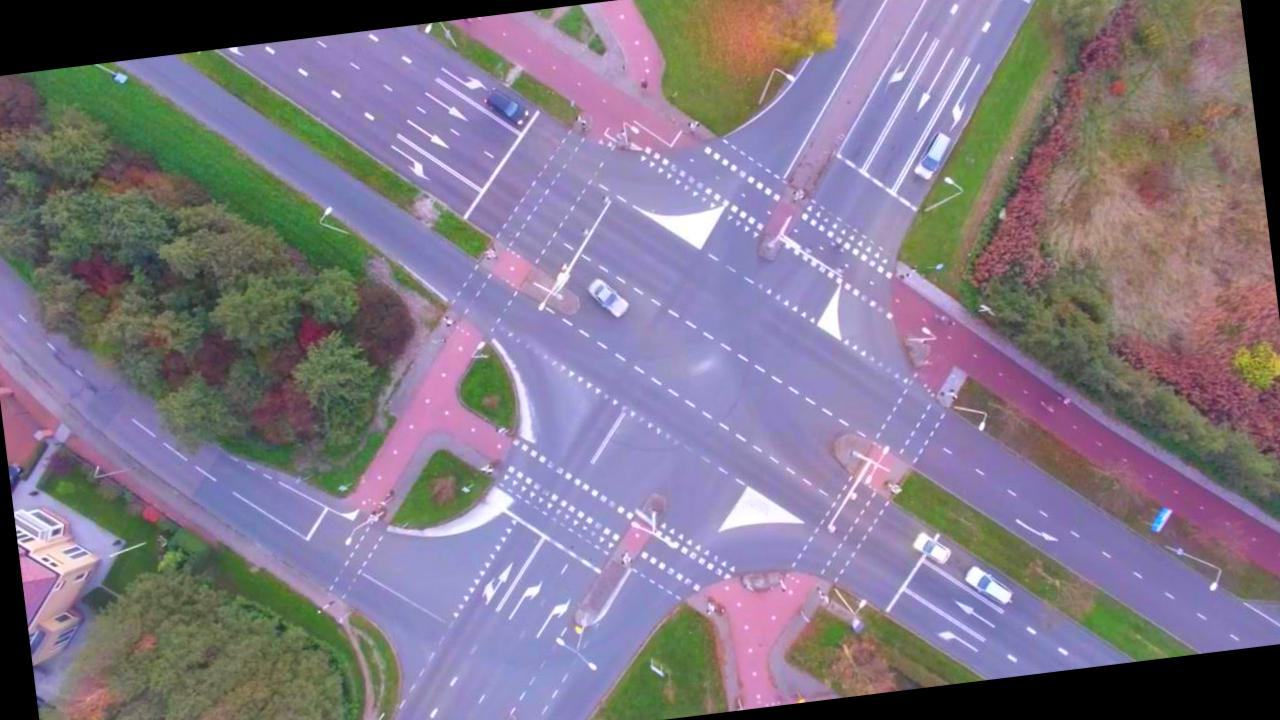vehicle: (962, 559, 1016, 612), (909, 129, 958, 182), (482, 82, 532, 130), (588, 274, 630, 322), (910, 528, 953, 568)
